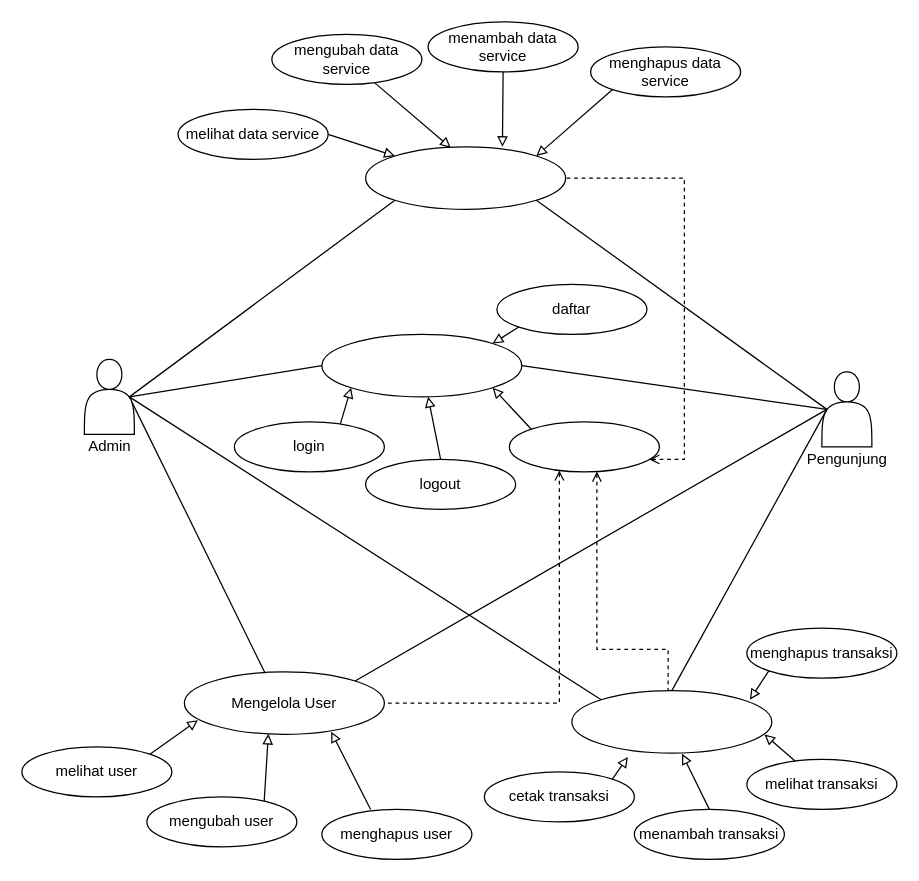
Image size: 919x881. Some labels were removed from this diagram. The shapes that lost their labels are listed below. From the top down, each one's centre as x and y in pixels, then its label:
At point 465,177: "Service".
At point 421,365: "Validasi".
At point 583,446: "cek status login".
At point 671,721: "Transaksi".
